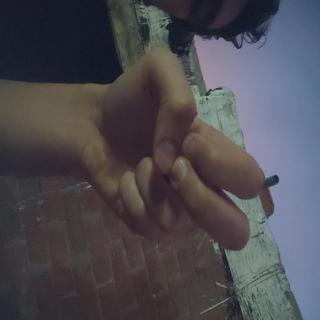QAAF: (27, 64, 195, 320)
